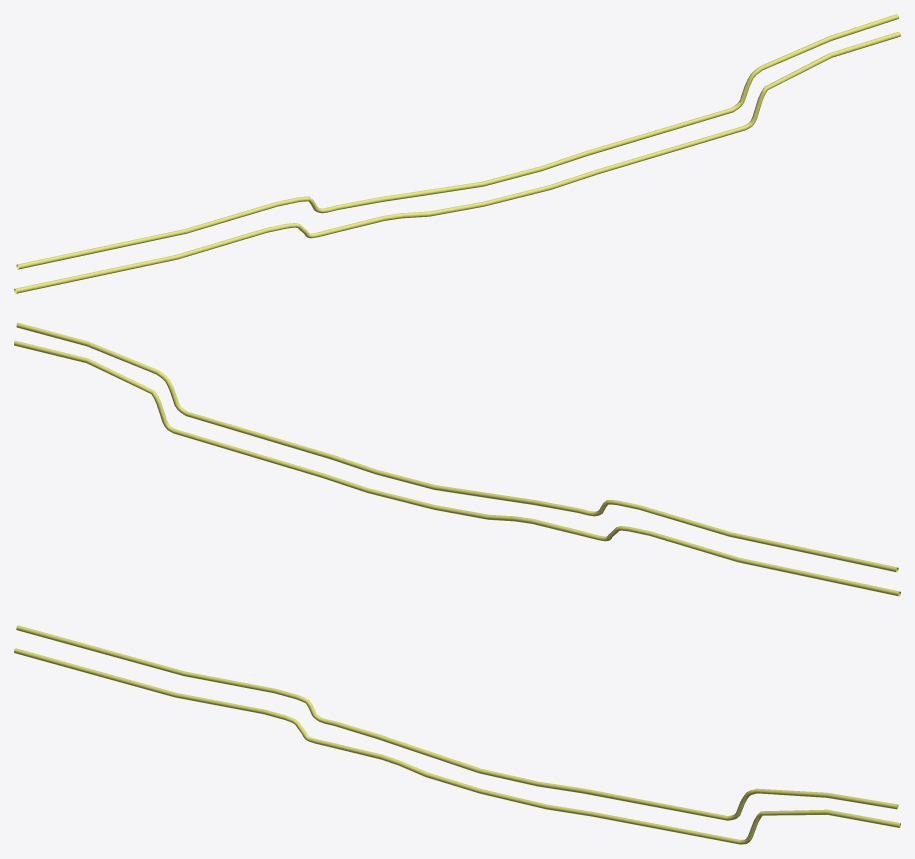
File: Generator_Pipe_Horizontal_Small_2.fbx
3 views of the same model, one above another, from view 1: azimuth 30°, elevation 25°; view 2: azimuth 150°, elevation 25°; view 3: azimuth 330°, elevation 25° (orthographic).
Visible parts, largest first — view 1: Pipe_Horizontal_Small_2; view 2: Pipe_Horizontal_Small_2; view 3: Pipe_Horizontal_Small_2.
Part boxes in pixels (x1,y1,x2,y2): Pipe_Horizontal_Small_2: (14, 14, 900, 293); Pipe_Horizontal_Small_2: (14, 322, 900, 596); Pipe_Horizontal_Small_2: (14, 625, 900, 844).
Bounding box in the file's own units: 1506 × 143 × 17.16.
